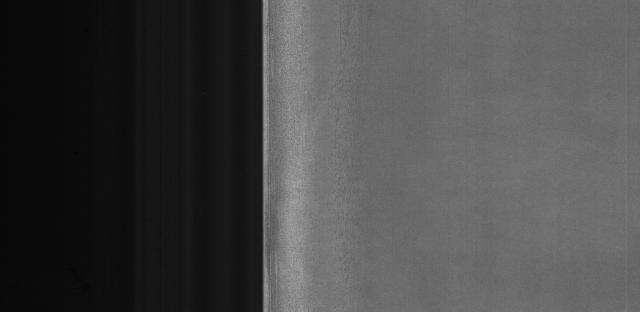silk_spot: (317, 112, 390, 266)
